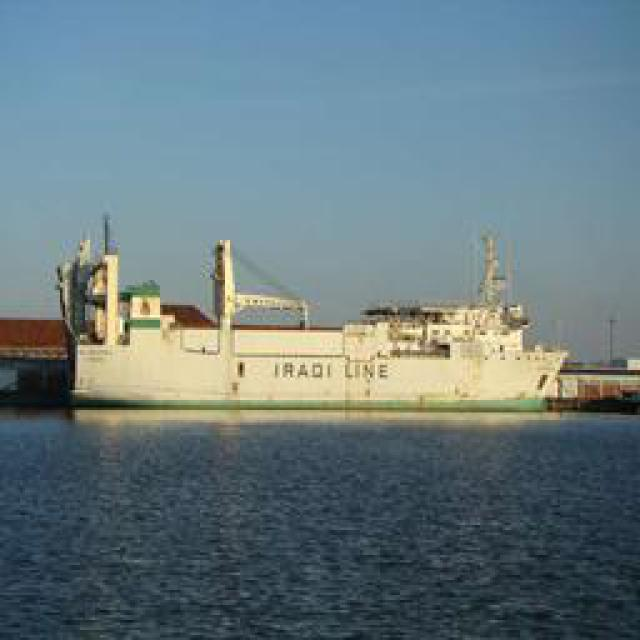Ship: (35, 224, 600, 419)
